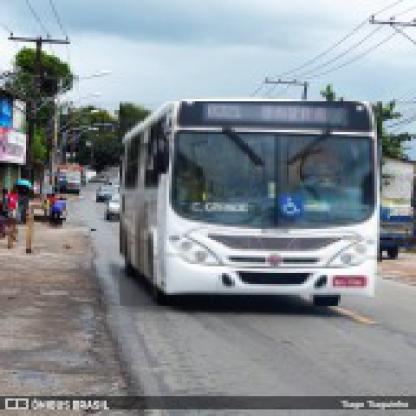bus: (121, 102, 386, 309)
